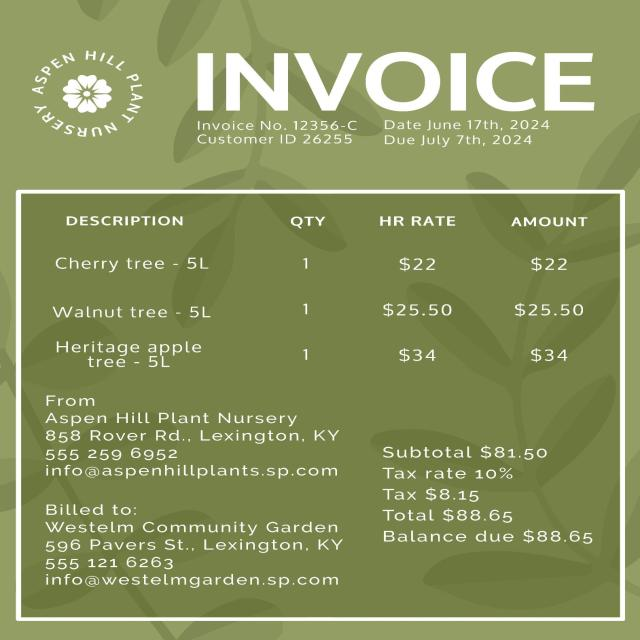paragraph: (185, 42, 620, 160), (29, 386, 350, 489), (39, 497, 363, 593), (370, 430, 607, 555), (13, 47, 149, 141)
table: (18, 198, 618, 374)
